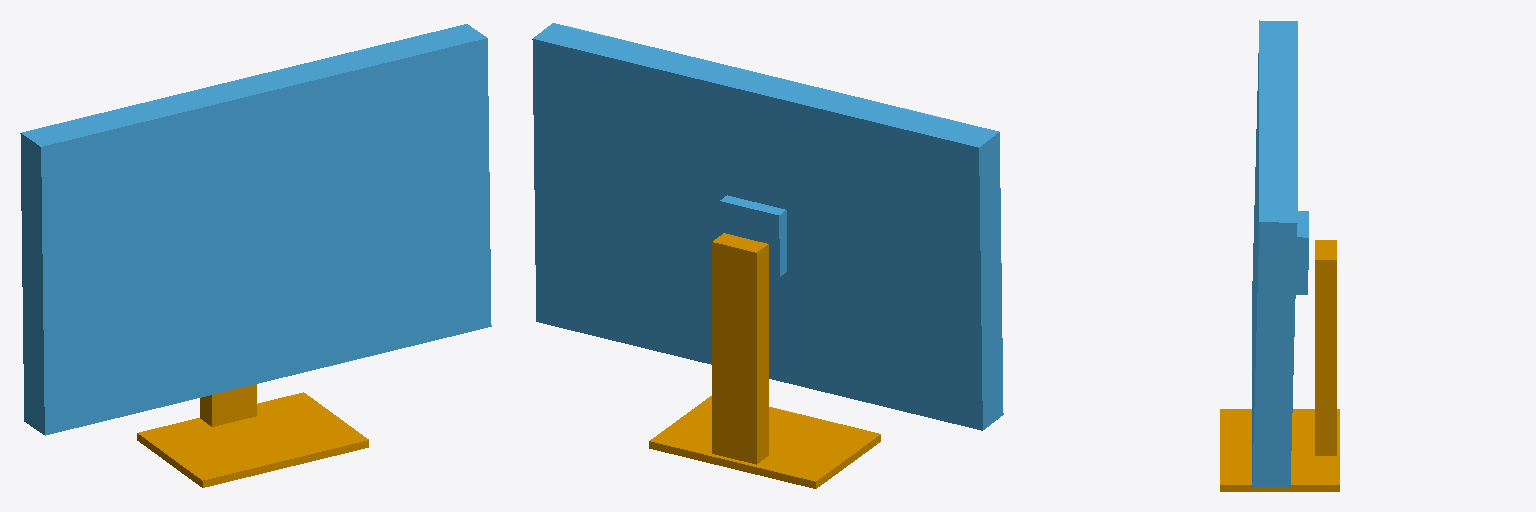
The robot description file, URDF, robot "monitor":
<robot name="monitor">
<link name="stand"><inertial><origin xyz="0.00000 0.02000 0.05000"/><mass value="4.5"/><inertia ixx="3.000e-02" ixy="0" ixz="0" iyy="3.000e-02" iyz="0" izz="3.000e-02"/></inertial>
<visual><origin xyz="0.00000 0.00000 0.00000" rpy="0.00000 0.00000 0.00000"/><geometry><mesh filename="monitor_stand_vis.obj"/></geometry></visual>
<collision><origin xyz="0.00000 0.00000 0.00750" rpy="0 0 0"/><geometry><box size="0.28000 0.19000 0.01200"/></geometry></collision>
<collision><origin xyz="0.00000 0.07250 0.18500" rpy="0 0 0"/><geometry><box size="0.07500 0.03500 0.34000"/></geometry></collision>
</link>
<link name="panel"><inertial><origin xyz="0.00000 -0.05288 -0.00288"/><mass value="6.5"/><inertia ixx="1.161e-01" ixy="0" ixz="0" iyy="4.188e-01" iyz="0" izz="3.066e-01"/></inertial>
<visual><origin xyz="0.00000 0.00000 0.00000" rpy="0.00000 0.00000 0.00000"/><geometry><mesh filename="monitor_panel_vis.obj"/></geometry></visual>
<collision><origin xyz="0.00000 -0.05288 -0.00288" rpy="0 0 0"/><geometry><box size="0.75000 0.06000 0.45900"/></geometry></collision>
<collision><origin xyz="0.00000 -0.01080 0.00000" rpy="0 0 0"/><geometry><box size="0.10000 0.02150 0.10000"/></geometry></collision>
</link>
<joint name="tilt" type="revolute"><parent link="stand"/><child link="panel"/><origin xyz="0.00000 0.04500 0.35000" rpy="-0.023920 0.000000 0.000000"/><axis xyz="-1 0 0"/><limit lower="-0.1112" upper="0.3426" effort="50" velocity="5"/><dynamics damping="0.5" friction="6.0"/></joint>
</robot>

--- What the picture shows (computed from the rendered views, not written in the file) ---
The picture shows the robot from 3 angles, left to right: view 1: azimuth 30°, elevation 25°; view 2: azimuth 150°, elevation 25°; view 3: azimuth 270°, elevation 25°; orthographic projection.
Robot: monitor — 2 links, 1 joints (1 revolute); root link stand; default pose: every joint at zero.
Links seen in each view (by area): view 1: panel, stand; view 2: panel, stand; view 3: panel, stand.
Boxes of the visible links, x1,y1,x2,y2 form: panel: [20, 24, 491, 435]; stand: [137, 384, 368, 487]; panel: [532, 23, 1003, 430]; stand: [649, 233, 880, 488]; panel: [1252, 20, 1308, 486]; stand: [1220, 240, 1339, 491].
Size in the robot's own frame: 0.75 by 0.19 by 0.577 metres.
2 mesh visuals loaded from 2 distinct referenced files (2 OBJ).
